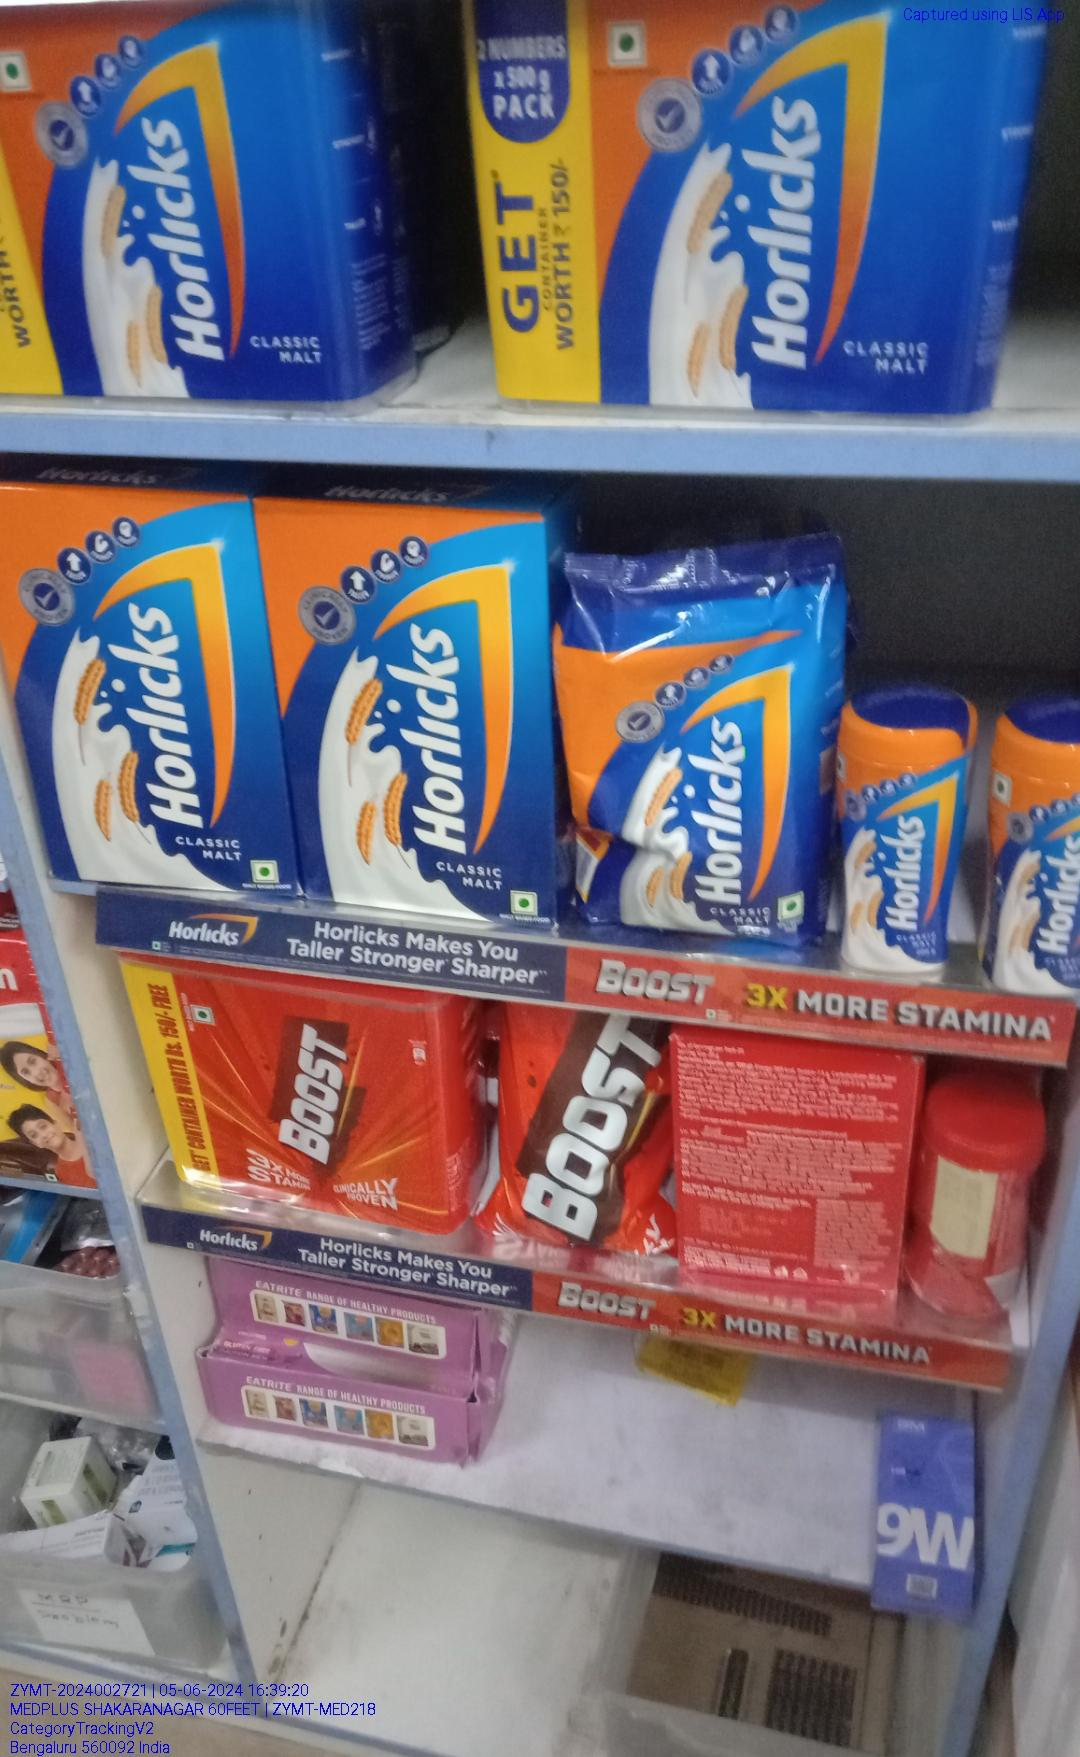HORLICK_CLASSIC_MALT_200_G_JAR: (832, 681, 965, 970), (980, 689, 1080, 1001)
HORLICK_CLASSIC_MALT_750_G_POUCH: (564, 543, 819, 941)
HORLICK_MALT_1_KG_CONTAINER: (468, 0, 1035, 413)
